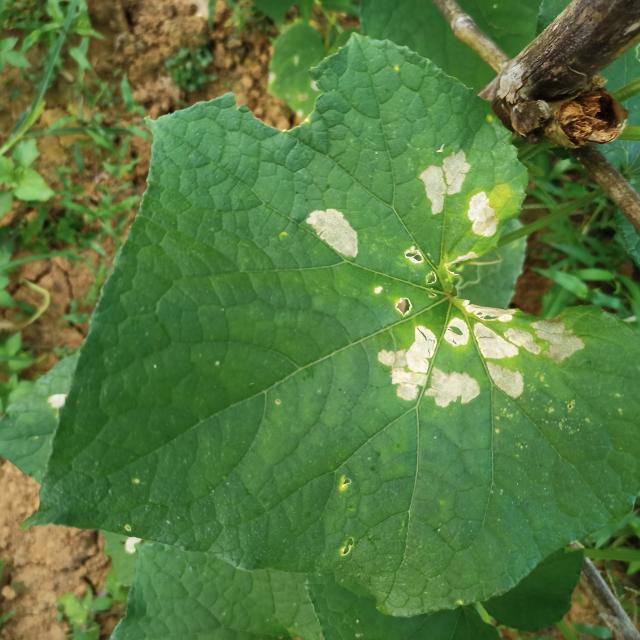disease_cucumber: (375, 298, 587, 409), (414, 144, 472, 220), (304, 204, 362, 260), (464, 189, 498, 241), (400, 244, 440, 288)
